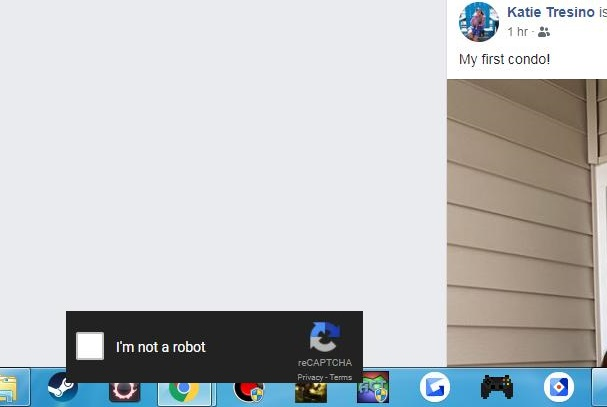captcha: (75, 332, 207, 360)
